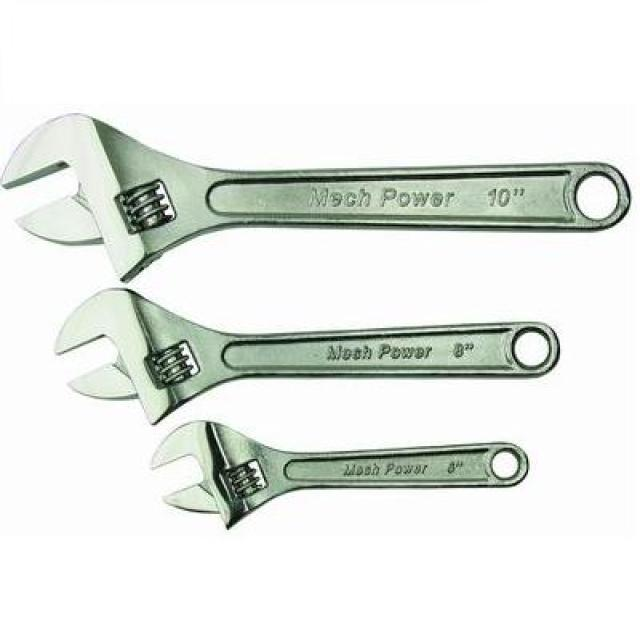wrench: (0, 105, 634, 276), (48, 280, 580, 430), (137, 413, 542, 541)
